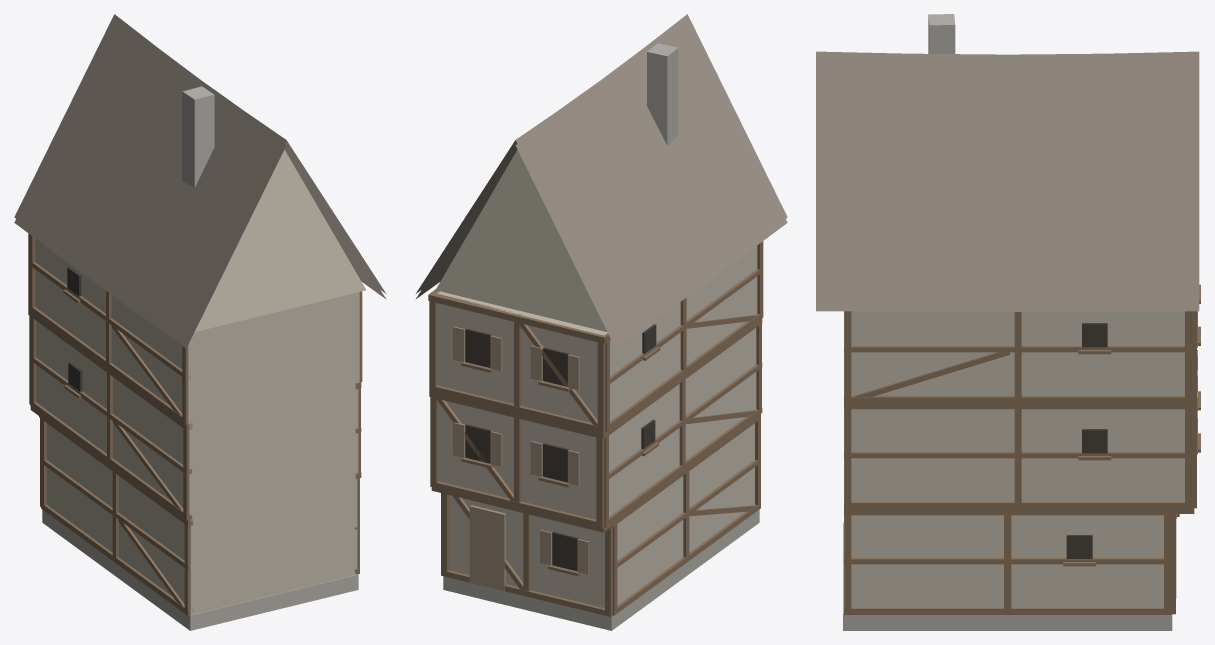
Rendered from house_narrow_c.glb.
3 views of the same model, side by side, from view 1: azimuth 30°, elevation 25°; view 2: azimuth 150°, elevation 25°; view 3: azimuth 270°, elevation 25° (orthographic). The views are drawn at different scales.
Visible parts, largest first — view 1: house_narrow_c; view 2: house_narrow_c; view 3: house_narrow_c.
Boxes of the visible parts, bbox=[...] form: house_narrow_c: bbox=[14, 14, 386, 630]; house_narrow_c: bbox=[415, 14, 787, 630]; house_narrow_c: bbox=[816, 14, 1200, 630].
Size of the model in its own units: 5.48 by 12.87 by 8.18.
